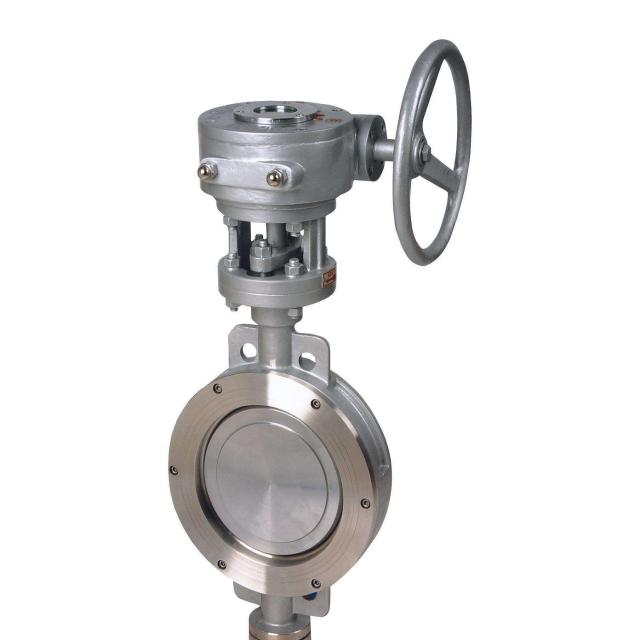Wheel Handle Valve Threaded: (387, 28, 480, 286)
